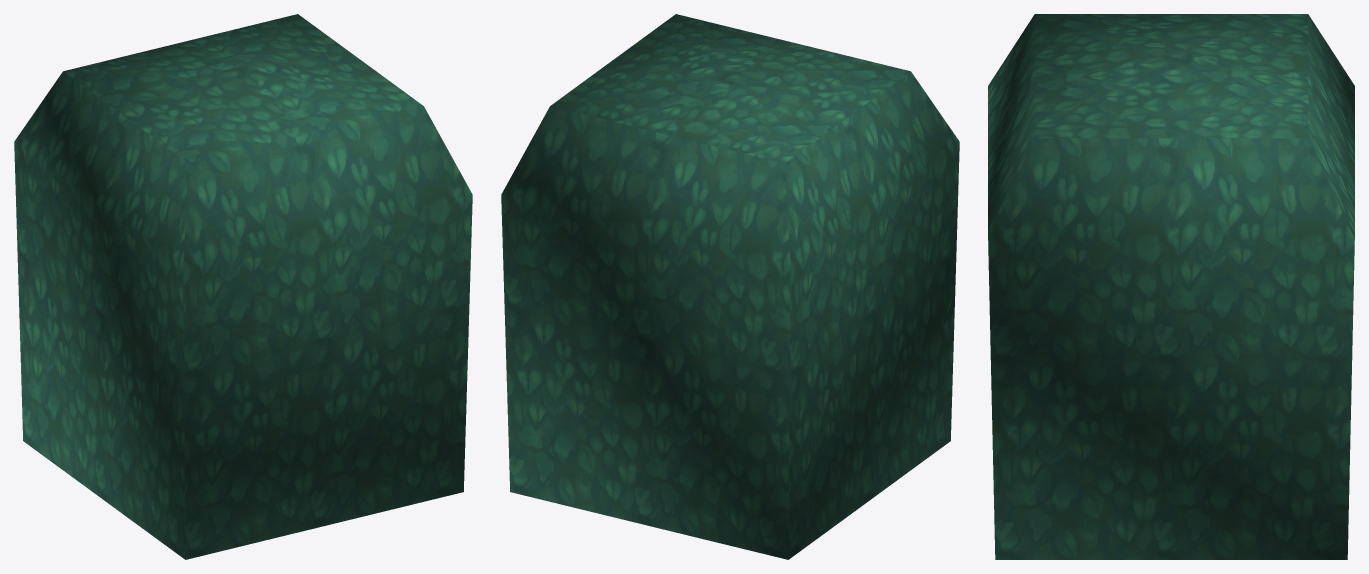
File: Treetop_tall.fbx
The picture shows the model from 3 angles, left to right: view 1: azimuth 30°, elevation 25°; view 2: azimuth 150°, elevation 25°; view 3: azimuth 270°, elevation 25°; orthographic projection. The views are drawn at different scales.
Visible parts, largest first — view 1: pCube37; view 2: pCube37; view 3: pCube37.
Boxes of the visible parts, left/top/right/bottom form: pCube37: left=14, top=14, right=472, bottom=559; pCube37: left=501, top=14, right=959, bottom=559; pCube37: left=988, top=14, right=1354, bottom=559.
Size of the model in its own units: 2.06 by 2.68 by 2.08.
